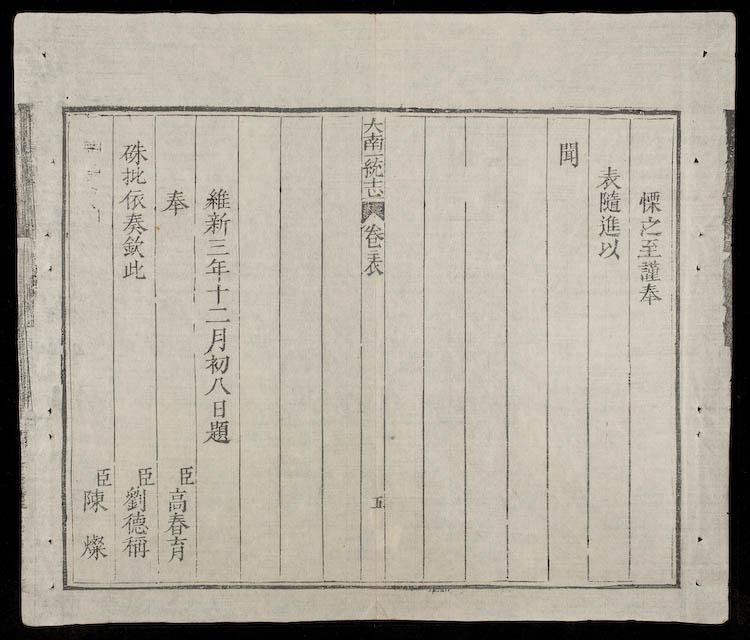c: (78, 531, 110, 560), (161, 187, 190, 215), (203, 325, 231, 353), (79, 487, 109, 513), (119, 138, 149, 164), (201, 211, 232, 236), (202, 185, 232, 210), (202, 419, 233, 443), (164, 535, 190, 563), (122, 485, 150, 511), (120, 535, 151, 558), (120, 511, 151, 534), (555, 139, 581, 166), (636, 188, 664, 213), (595, 164, 623, 189), (120, 211, 149, 235), (119, 188, 148, 211), (165, 486, 190, 512), (163, 511, 191, 534), (596, 190, 624, 213), (120, 235, 148, 258), (635, 259, 664, 281), (635, 237, 664, 259), (203, 375, 232, 397), (203, 282, 231, 304), (120, 259, 148, 281), (202, 353, 231, 374), (119, 165, 148, 186), (596, 214, 622, 237), (636, 283, 663, 305), (637, 215, 664, 237), (131, 463, 156, 486), (596, 238, 622, 260), (203, 237, 231, 257), (203, 257, 231, 277), (203, 305, 232, 324), (206, 398, 230, 418), (174, 463, 195, 485), (361, 157, 384, 177), (93, 466, 113, 487), (362, 178, 384, 197), (362, 133, 384, 152), (362, 223, 383, 242), (362, 116, 384, 133), (363, 262, 384, 277), (368, 494, 386, 510), (364, 235, 384, 249), (364, 251, 383, 263), (364, 152, 384, 158)
